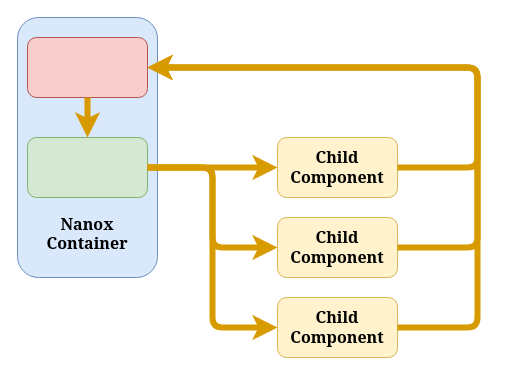
This 506x375 diagram has some shape labels left out. Each missing label, with the centre of its shape:
Actions: point (87, 67)
State: point (87, 167)
